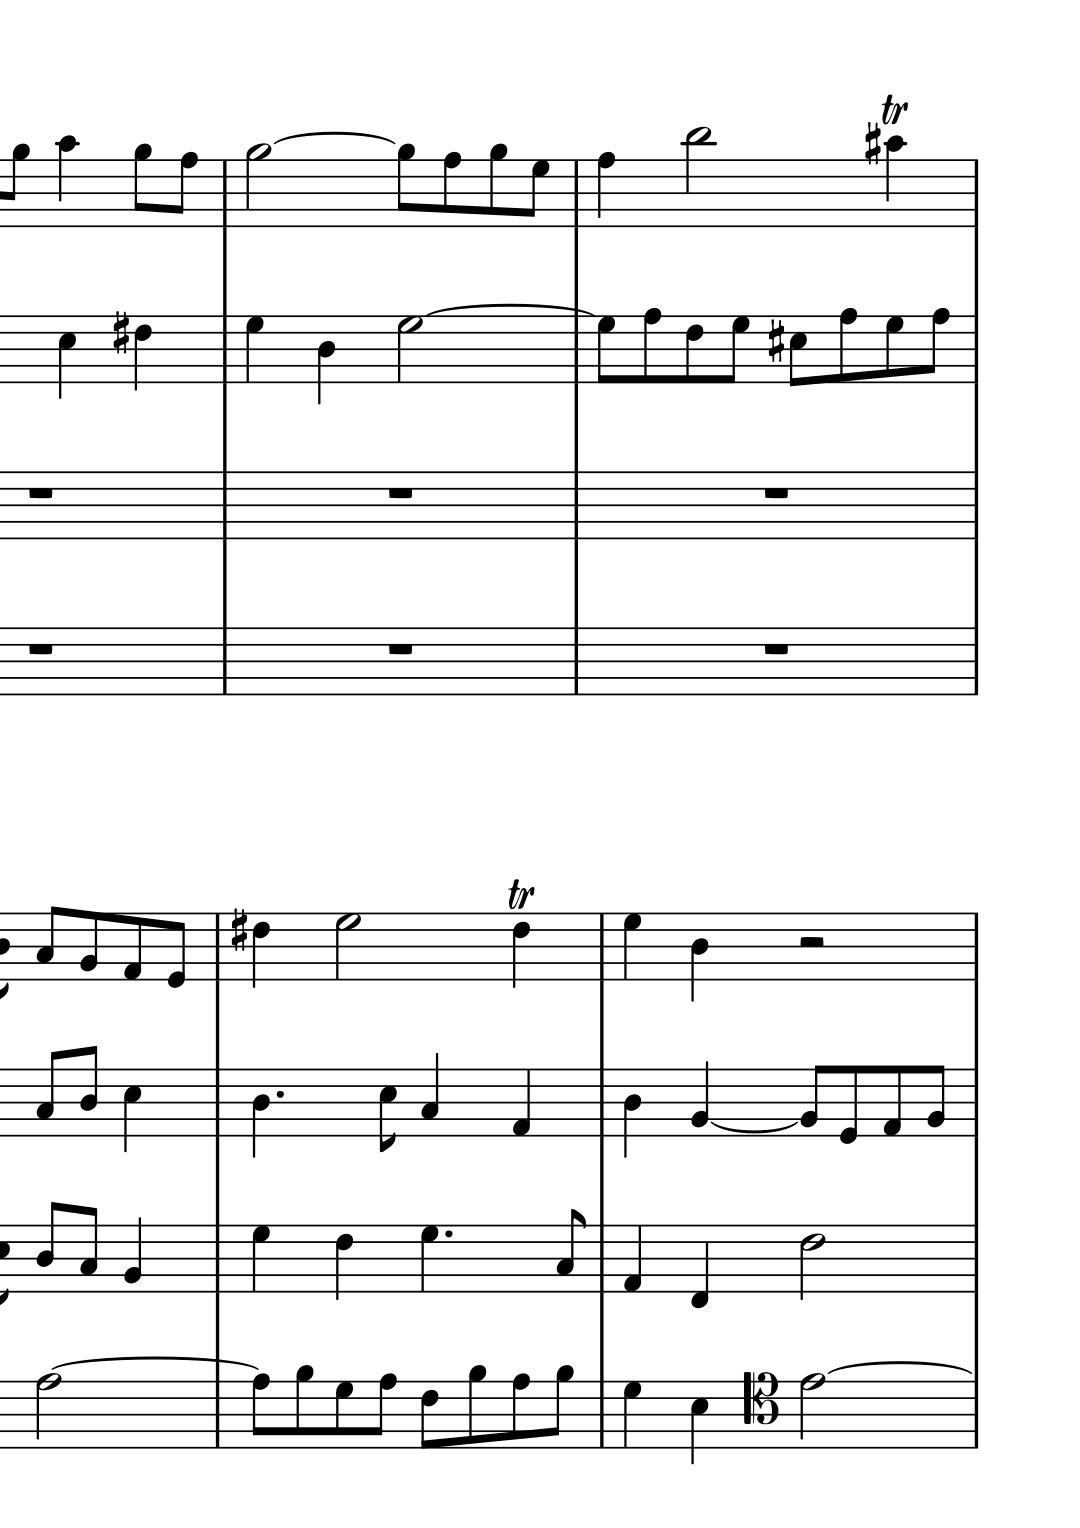2_11: (681, 125, 712, 230)
2_6: (798, 1224, 824, 1304)
2_7: (393, 313, 424, 387), (333, 910, 360, 982)
2_8: (33, 1371, 62, 1451), (797, 1371, 825, 1451)
2_9: (243, 143, 270, 231)
4_-1: (688, 1222, 709, 1311)
4_1: (621, 1223, 644, 1294), (510, 1066, 532, 1139)
4_10: (55, 133, 78, 230), (884, 134, 906, 229)
4_2: (122, 1214, 145, 1294), (688, 1059, 711, 1138)
4_3: (418, 1051, 439, 1138)
4_4: (249, 1066, 271, 1160), (621, 1066, 643, 1159), (688, 911, 709, 1003), (314, 313, 335, 405)
4_5: (55, 312, 79, 401), (120, 1066, 143, 1154), (688, 1380, 709, 1467)
4_6: (131, 311, 157, 392), (332, 1223, 354, 1302), (249, 911, 270, 991), (510, 911, 529, 991)
4_7: (248, 1223, 274, 1294), (243, 314, 266, 385), (621, 911, 643, 982), (621, 1380, 643, 1450), (418, 1223, 439, 1295)
4_8: (594, 150, 617, 229)
8_0: (836, 1064, 859, 1146), (164, 911, 187, 990)
8_1: (879, 1063, 901, 1138), (120, 910, 141, 982)
8_2: (797, 1063, 825, 1138), (78, 910, 101, 982), (925, 1063, 946, 1138)
8_3: (553, 1208, 584, 1295), (34, 1049, 61, 1139), (34, 904, 62, 982), (78, 1205, 99, 1297)
8_4: (35, 1199, 63, 1295), (77, 1043, 99, 1139)
8_5: (378, 1066, 397, 1153), (787, 314, 808, 388)
8_6: (683, 314, 704, 386), (418, 1380, 439, 1451)
8_7: (720, 314, 750, 387), (522, 158, 551, 228), (882, 314, 906, 383), (595, 314, 616, 385), (333, 1380, 354, 1450)
8_8: (920, 306, 951, 385), (168, 151, 199, 229), (368, 1373, 397, 1451), (837, 307, 860, 386), (249, 1373, 272, 1451), (441, 150, 463, 230), (641, 307, 663, 386), (510, 1371, 531, 1450)
8_9: (545, 1364, 575, 1450), (2, 141, 30, 228), (395, 141, 417, 229), (487, 143, 510, 229), (293, 1364, 316, 1451), (466, 1364, 489, 1451), (131, 143, 152, 230)
Rests1: (22, 638, 56, 659), (760, 638, 791, 658), (23, 483, 56, 502), (760, 483, 792, 502), (385, 483, 416, 502), (385, 639, 416, 658)
Rests2: (795, 935, 828, 952)
Sharp: (109, 307, 132, 357), (766, 316, 785, 364), (863, 120, 882, 167), (229, 906, 248, 953)
Single_barline: (213, 471, 235, 539), (565, 471, 586, 539), (591, 1069, 612, 1136), (965, 1382, 986, 1449), (567, 318, 588, 383), (591, 913, 612, 979), (215, 316, 235, 383), (207, 1070, 227, 1136), (207, 1225, 227, 1292), (965, 1224, 984, 1293), (216, 159, 235, 227), (965, 160, 984, 228), (965, 1069, 983, 1138), (567, 160, 584, 228), (967, 471, 984, 539), (967, 628, 984, 696), (208, 1381, 226, 1449), (215, 628, 233, 694), (567, 628, 584, 694), (967, 913, 984, 980), (593, 1225, 610, 1292), (967, 314, 983, 385), (593, 1382, 610, 1447), (208, 914, 224, 980)
Slur: (425, 300, 600, 317), (50, 1358, 250, 1371), (828, 1358, 971, 1374), (272, 131, 396, 144), (709, 1119, 802, 1133)
Tensor_Cclef: (740, 1369, 778, 1449)
Trill: (504, 876, 535, 912), (879, 91, 908, 126)
dot: (272, 1086, 288, 1102), (442, 1226, 455, 1240)
